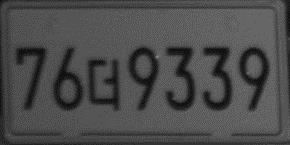3: (200, 44, 233, 112), (164, 44, 196, 110)
6: (51, 46, 84, 112)
7: (13, 46, 49, 112)
9: (237, 46, 271, 112), (127, 45, 160, 111)
더: (86, 57, 122, 112)
